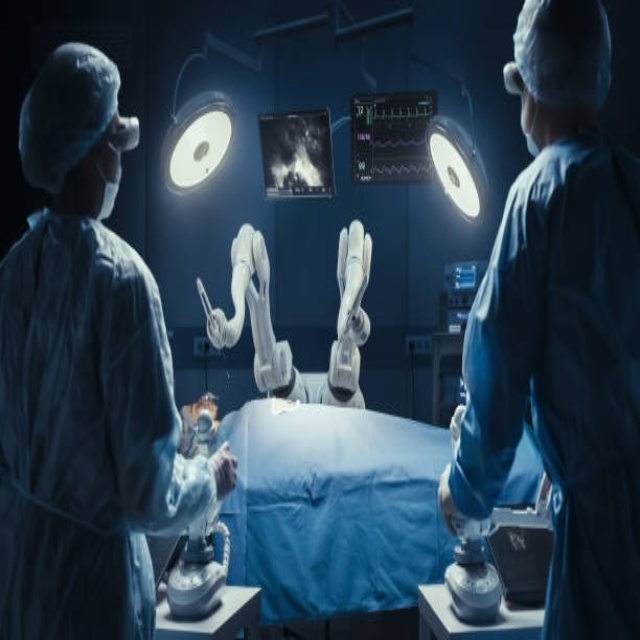Gafas: (108, 114, 141, 152), (503, 62, 526, 96)
Guantes: (210, 435, 243, 500)
Mascara: (95, 143, 122, 221), (522, 93, 541, 159)
